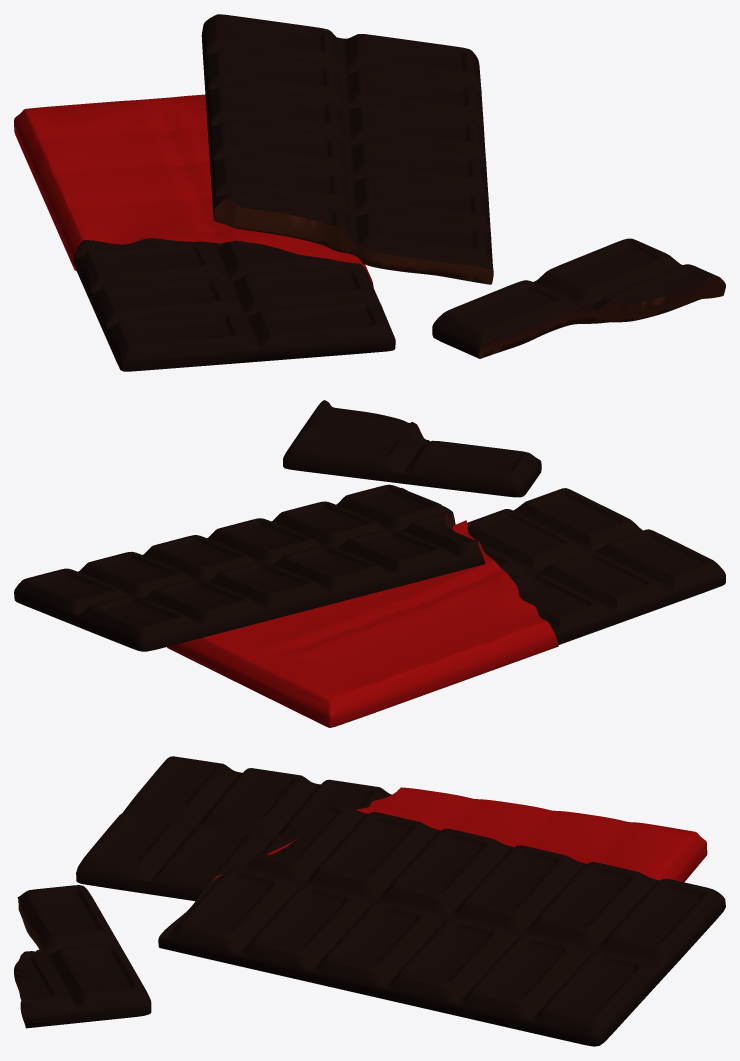
The model's file is chocolate.FBX.
3 renders of one model, top to bottom at view 1: azimuth 30°, elevation 25°; view 2: azimuth 150°, elevation 25°; view 3: azimuth 270°, elevation 25°, orthographic. The views are drawn at different scales.
Visible parts, largest first — view 1: Tableta; view 2: Tableta; view 3: Tableta.
Part boxes in pixels (x1,y1,x2,y2): Tableta: [14, 14, 725, 371]; Tableta: [14, 400, 725, 727]; Tableta: [14, 756, 725, 1046].
Size of the model in its own units: 0.6506 by 0.0711 by 0.7109.
